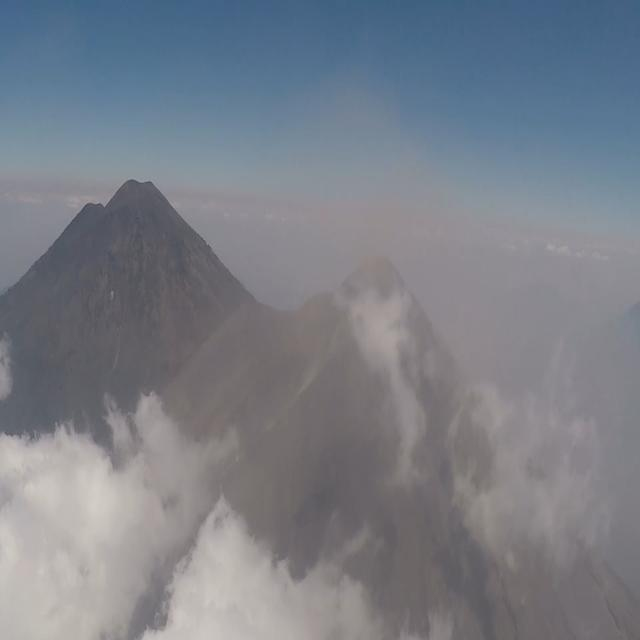Summit: (294, 250, 440, 350)
